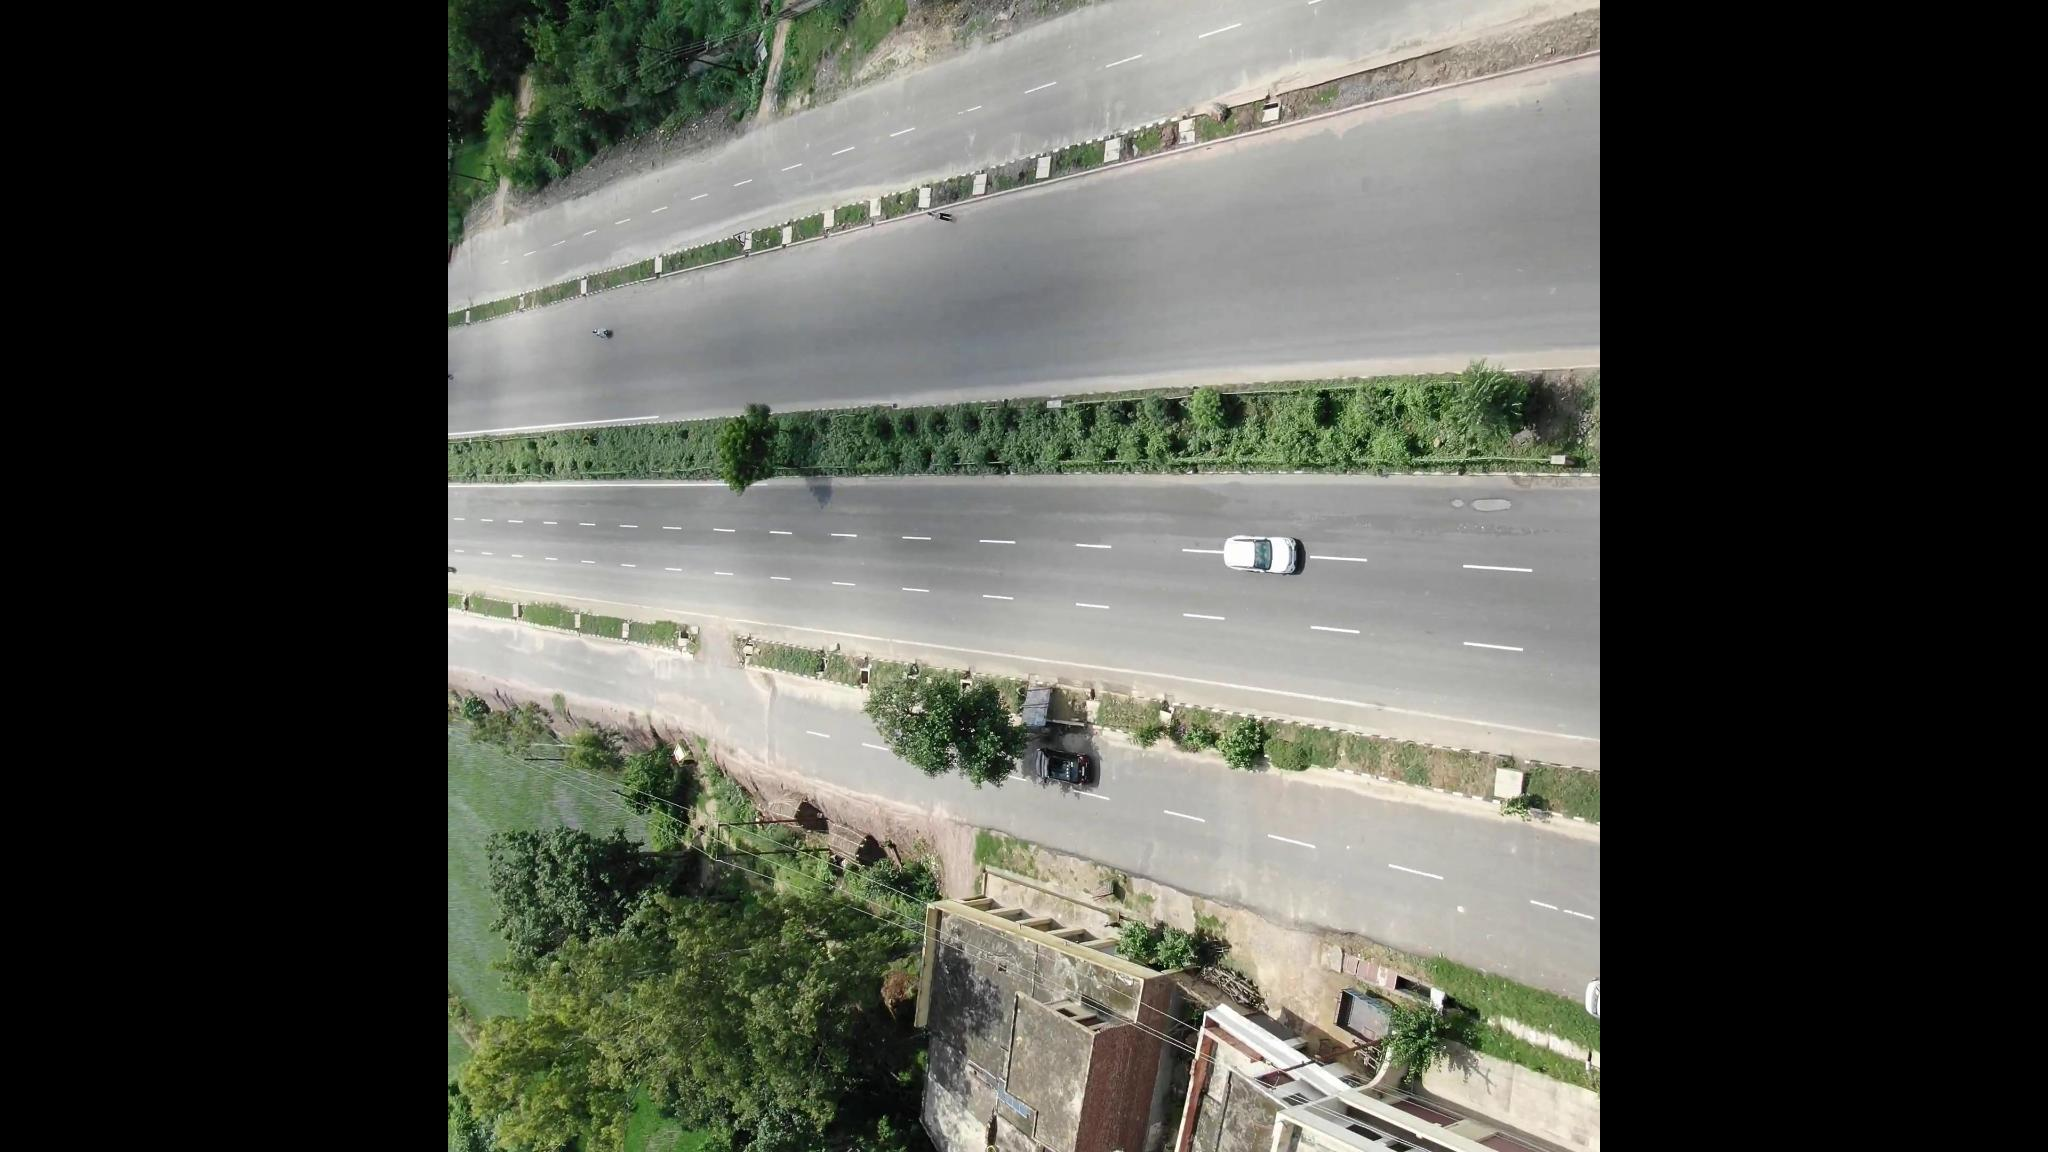Potholes: (1431, 491, 1528, 529)
